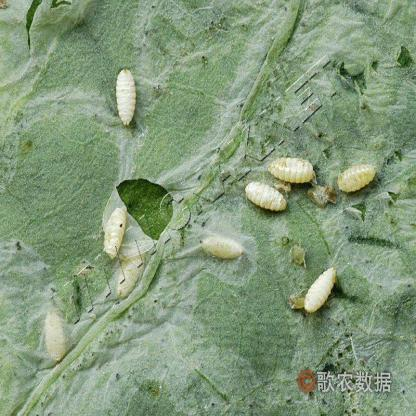whorl-maggot: (246, 173, 290, 219), (302, 262, 339, 314), (334, 158, 382, 198), (111, 64, 141, 126), (268, 154, 316, 188), (199, 232, 248, 264), (42, 308, 68, 360), (103, 201, 127, 255)
